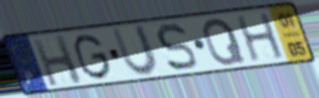G: (73, 32, 114, 82)
H: (30, 33, 86, 88), (234, 11, 287, 64)
Q: (201, 16, 248, 68)
S: (154, 22, 201, 74)
U: (109, 23, 162, 79)
